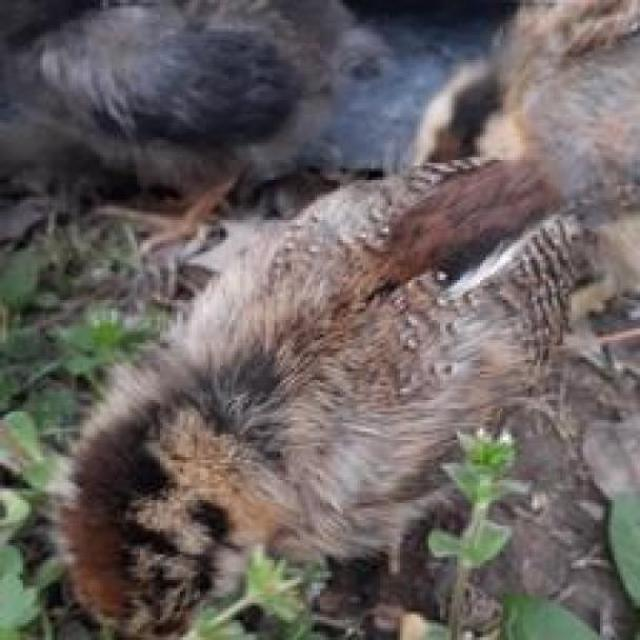Chicken: (39, 181, 621, 640)
